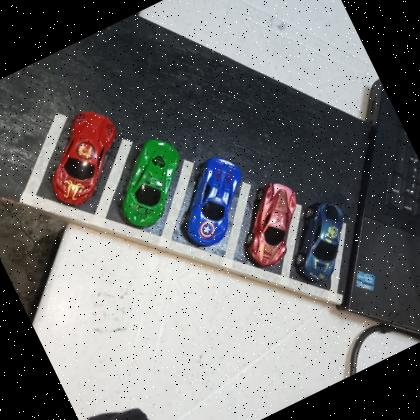Car: (26, 100, 141, 214), (96, 128, 203, 235), (160, 147, 266, 255), (223, 172, 321, 274), (275, 191, 368, 288)
